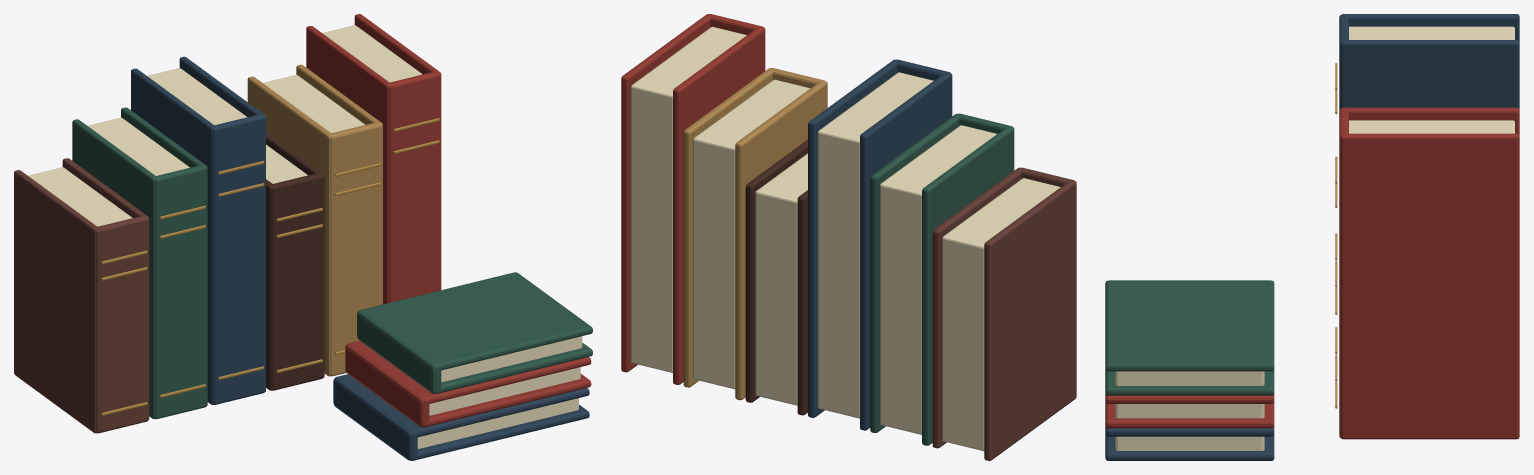
The model's file is BookSet.fbx.
The picture shows the model from 3 angles, left to right: view 1: azimuth 30°, elevation 25°; view 2: azimuth 150°, elevation 25°; view 3: azimuth 270°, elevation 25°; orthographic projection. The views are drawn at different scales.
Parts seen in each view (by area): view 1: Standing volume 1 cover, Standing volume 3 spine, Horizontal volume 3 cover.001, Standing volume 2 spine, Standing volume 6 spine, Standing volume 5 spine, Standing volume 1 spine, Standing volume 4 spine, Standing volume 3 cover, Standing volume 2 cover, Standing volume 5 cover, Standing volume 6 cover (+24 smaller); view 2: Standing volume 1 cover, Standing volume 3 pages, Standing volume 6 pages, Standing volume 5 pages, Standing volume 2 pages, Standing volume 1 pages, Standing volume 4 pages, Standing volume 3 cover, Standing volume 6 cover, Standing volume 2 cover, Standing volume 5 cover, Standing volume 6 cover.001 (+11 smaller); view 3: Standing volume 6 cover.001, Horizontal volume 3 cover.001, Standing volume 3 cover.001, Standing volume 6 cover, Standing volume 6 pages, Standing volume 3 pages, Standing volume 3 cover, Horizontal volume 1 pages, Horizontal volume 2 pages, Horizontal volume 3 pages, Horizontal volume 2 cover, Horizontal volume 3 cover (+4 smaller).
Part boxes in pixels (left/top/right/bottom): Standing volume 1 cover: left=14, top=170, right=97, bottom=433; Standing volume 3 spine: left=213, top=114, right=265, bottom=404; Horizontal volume 3 cover.001: left=359, top=272, right=592, bottom=370; Standing volume 2 spine: left=154, top=165, right=206, bottom=419; Standing volume 6 spine: left=388, top=71, right=440, bottom=302; Standing volume 5 spine: left=330, top=122, right=382, bottom=376; Standing volume 1 spine: left=96, top=216, right=148, bottom=433; Standing volume 4 spine: left=271, top=173, right=323, bottom=390; Standing volume 3 cover: left=131, top=68, right=214, bottom=404; Standing volume 2 cover: left=72, top=119, right=155, bottom=419; Standing volume 5 cover: left=247, top=76, right=331, bottom=376; Standing volume 6 cover: left=306, top=26, right=389, bottom=304; Standing volume 1 cover: left=984, top=180, right=1076, bottom=460; Standing volume 3 pages: left=817, top=72, right=933, bottom=418; Standing volume 6 pages: left=630, top=26, right=746, bottom=372; Standing volume 5 pages: left=693, top=79, right=810, bottom=389; Standing volume 2 pages: left=880, top=125, right=996, bottom=434; Standing volume 1 pages: left=942, top=178, right=1060, bottom=451; Standing volume 4 pages: left=755, top=153, right=807, bottom=405; Standing volume 3 cover: left=860, top=72, right=952, bottom=430; Standing volume 6 cover: left=673, top=26, right=765, bottom=384; Standing volume 2 cover: left=922, top=126, right=1014, bottom=445; Standing volume 5 cover: left=735, top=80, right=827, bottom=400; Standing volume 6 cover.001: left=621, top=14, right=710, bottom=372; Standing volume 6 cover.001: left=1340, top=133, right=1519, bottom=439; Horizontal volume 3 cover.001: left=1105, top=280, right=1274, bottom=371; Standing volume 3 cover.001: left=1340, top=40, right=1519, bottom=109; Standing volume 6 cover: left=1341, top=107, right=1519, bottom=135; Standing volume 6 pages: left=1349, top=120, right=1514, bottom=133; Standing volume 3 pages: left=1349, top=26, right=1514, bottom=39; Standing volume 3 cover: left=1341, top=14, right=1519, bottom=41; Horizontal volume 1 pages: left=1115, top=436, right=1264, bottom=450; Horizontal volume 2 pages: left=1115, top=404, right=1264, bottom=418; Horizontal volume 3 pages: left=1115, top=371, right=1264, bottom=385; Horizontal volume 2 cover: left=1105, top=402, right=1274, bottom=428; Horizontal volume 3 cover: left=1105, top=369, right=1274, bottom=395.
Size of the model in its own units: 0.3486 by 0.236 by 0.2915.
